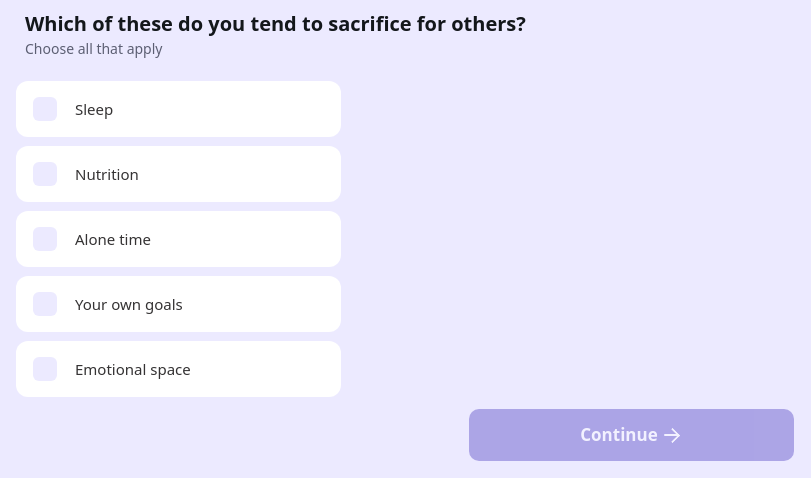
Test: MultiSelectScreen › keeps Continue disabled until something is chosen
Expected: the button "Continue" is disabled, [468,409,794,461]
Click the checkbox labelled "Sleep" at (94, 109), box [16,81,341,137]
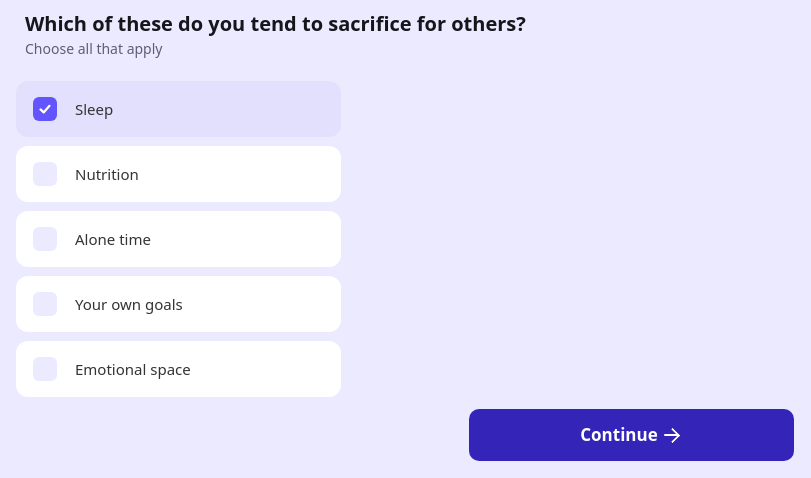
Expected: the button "Continue" is enabled, [468,409,794,461]
Click the checkbox labelled "Sleep" at (94, 109), box [16,81,341,137]
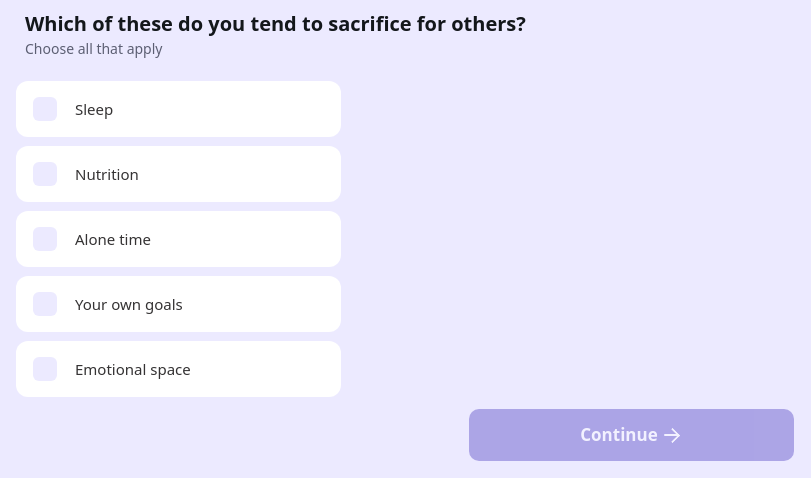
Expected: the button "Continue" is disabled, [468,409,794,461]
